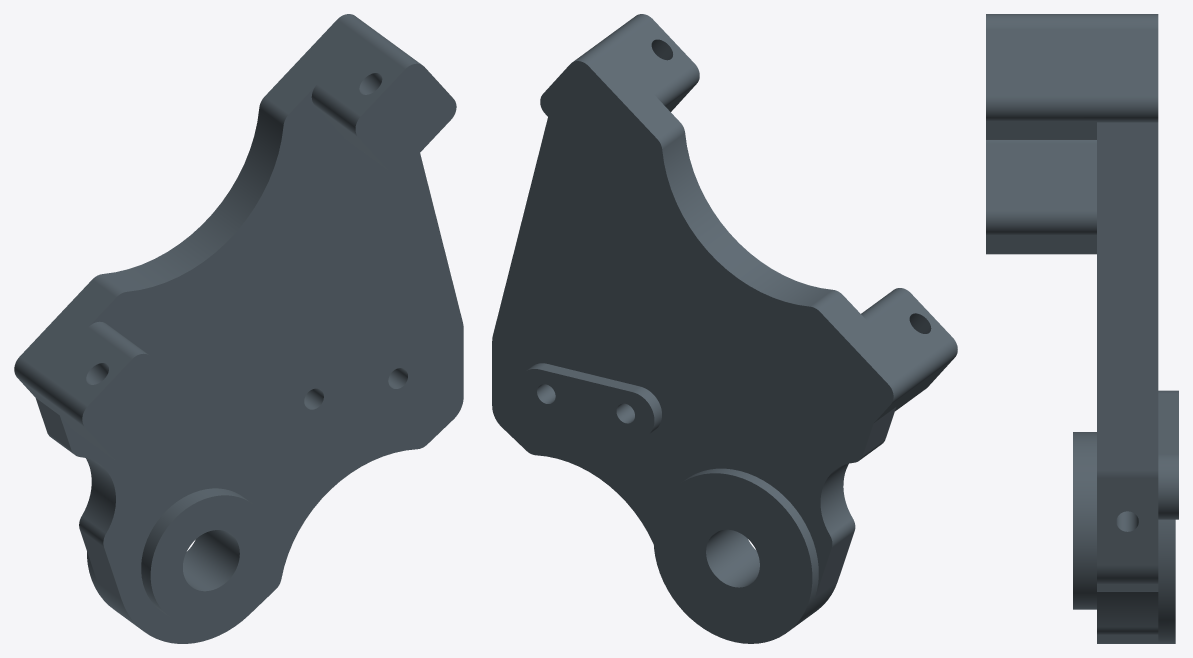
Rendered from dropout_left.glb.
3 renders of one model, left to right at view 1: azimuth 30°, elevation 25°; view 2: azimuth 150°, elevation 25°; view 3: azimuth 270°, elevation 25°, orthographic. The views are drawn at different scales.
Visible parts, largest first — view 1: dropout_left; view 2: dropout_left; view 3: dropout_left.
Part boxes in pixels (box(x1,y1,x2,y2)): dropout_left: box(14, 14, 463, 643); dropout_left: box(492, 14, 957, 643); dropout_left: box(986, 14, 1178, 643).
Size of the model in its own units: 90.94 by 116 by 28.2.
